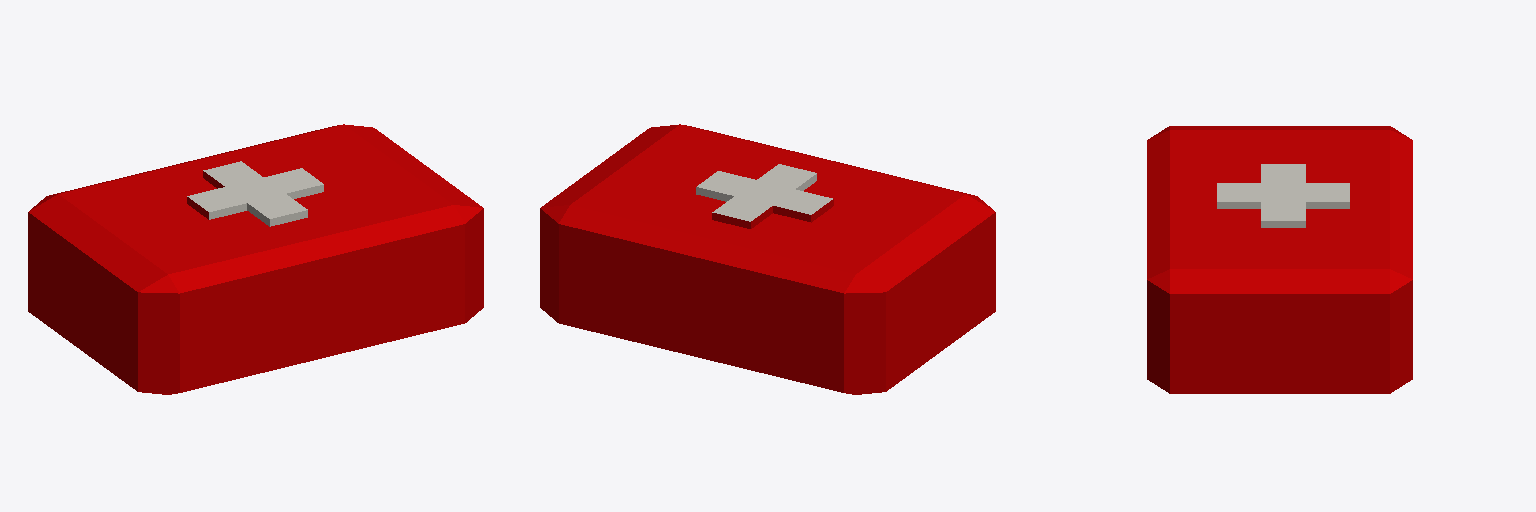
The model's file is Medkit.obj.
3 views of the same model, side by side, from view 1: azimuth 30°, elevation 25°; view 2: azimuth 150°, elevation 25°; view 3: azimuth 270°, elevation 25° (orthographic).
Parts seen in each view (by area): view 1: Cube_Cube.002; view 2: Cube_Cube.002; view 3: Cube_Cube.002.
Boxes of the visible parts, x1,y1,x2,y2 form: Cube_Cube.002: [28, 124, 483, 394]; Cube_Cube.002: [540, 124, 995, 394]; Cube_Cube.002: [1147, 126, 1412, 393].
Bounding box in the file's own units: 6 × 2.13 × 4.